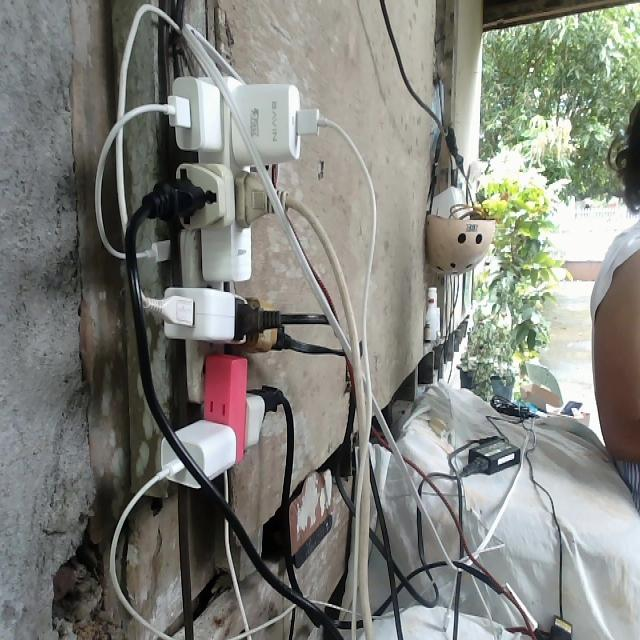-: (145, 71, 307, 493)
